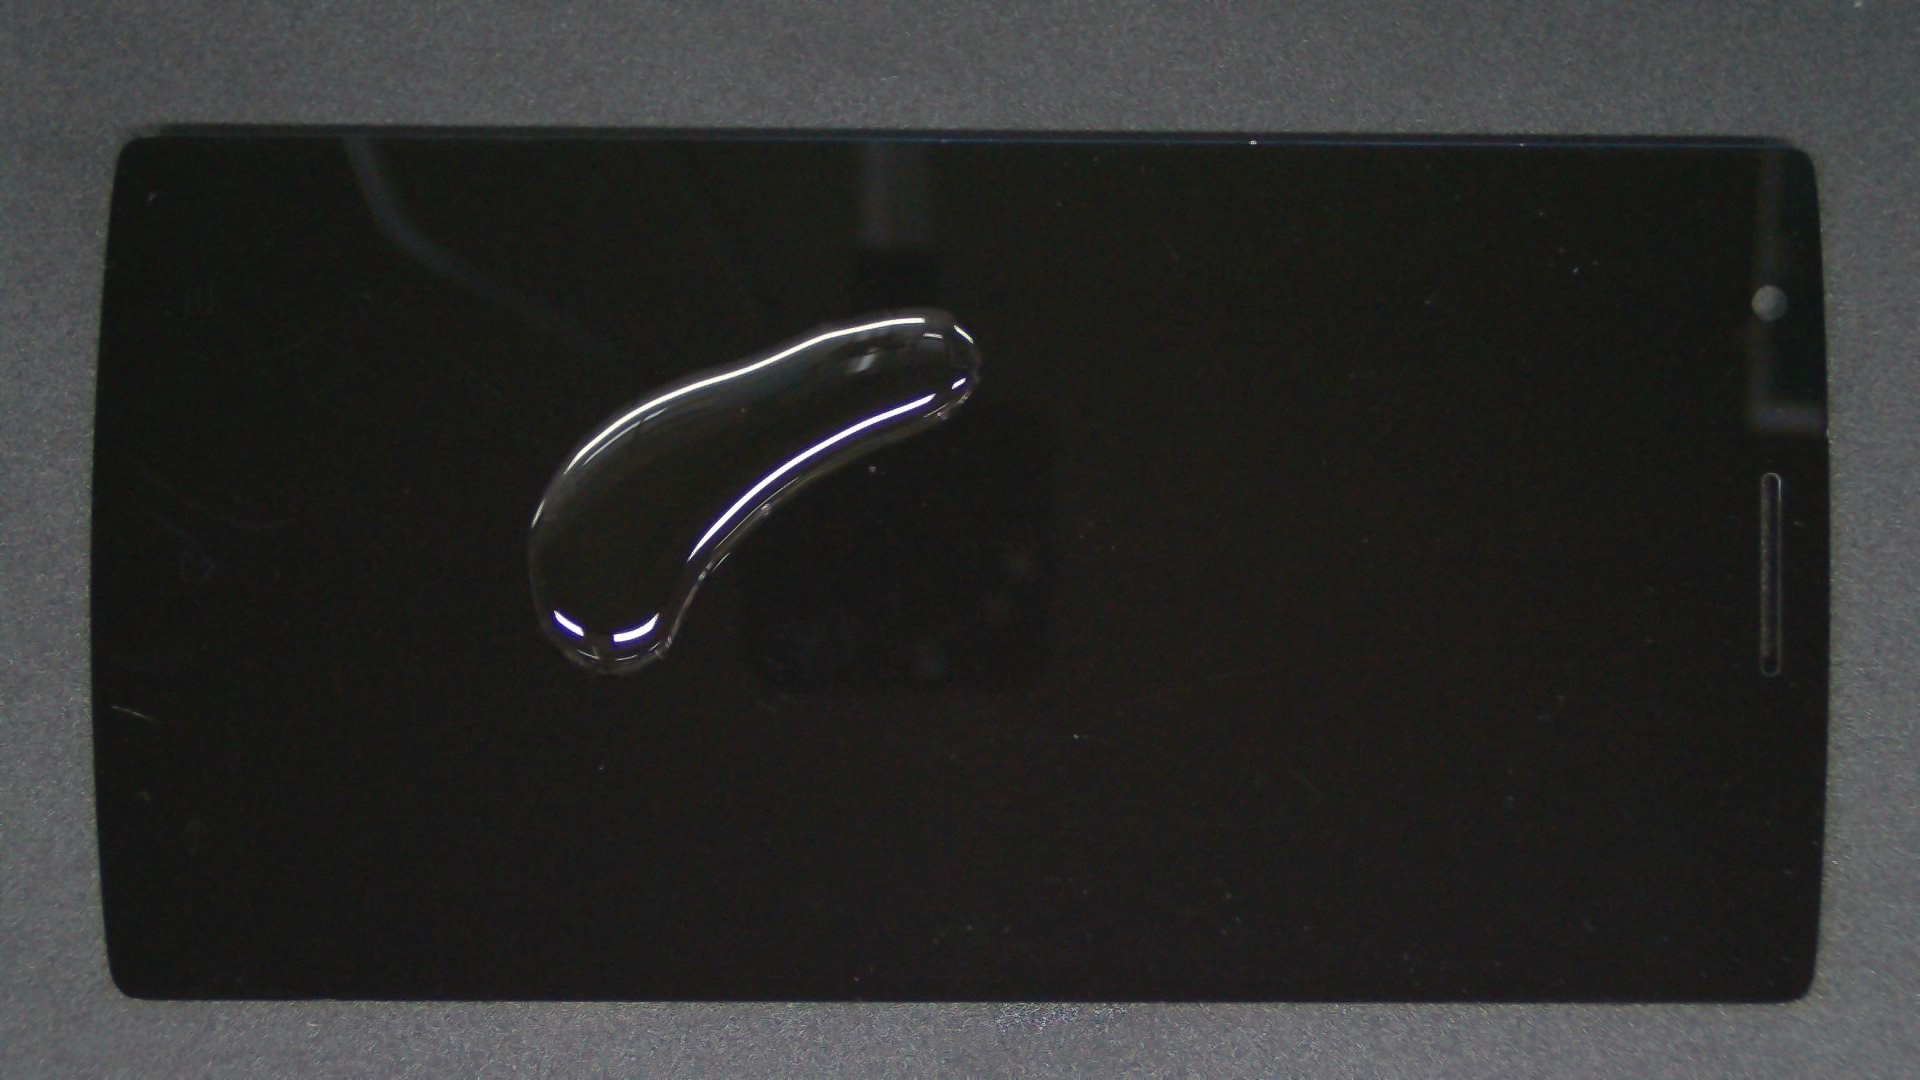defect: (526, 305, 980, 675)
